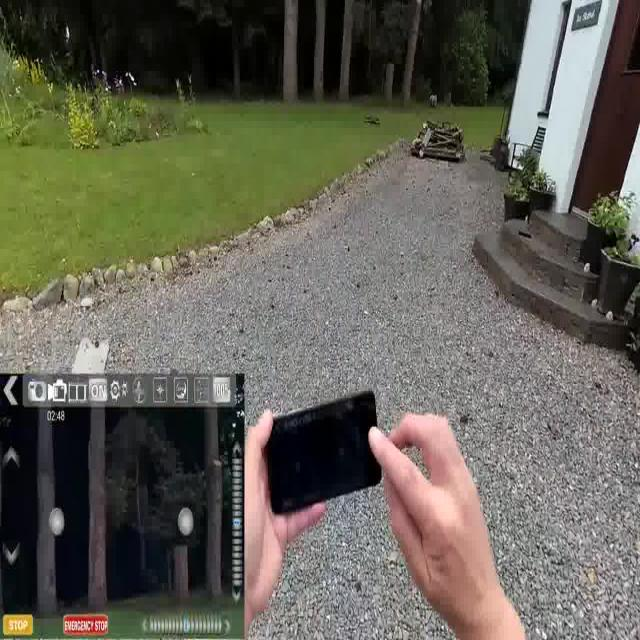drones: (360, 102, 383, 136)
